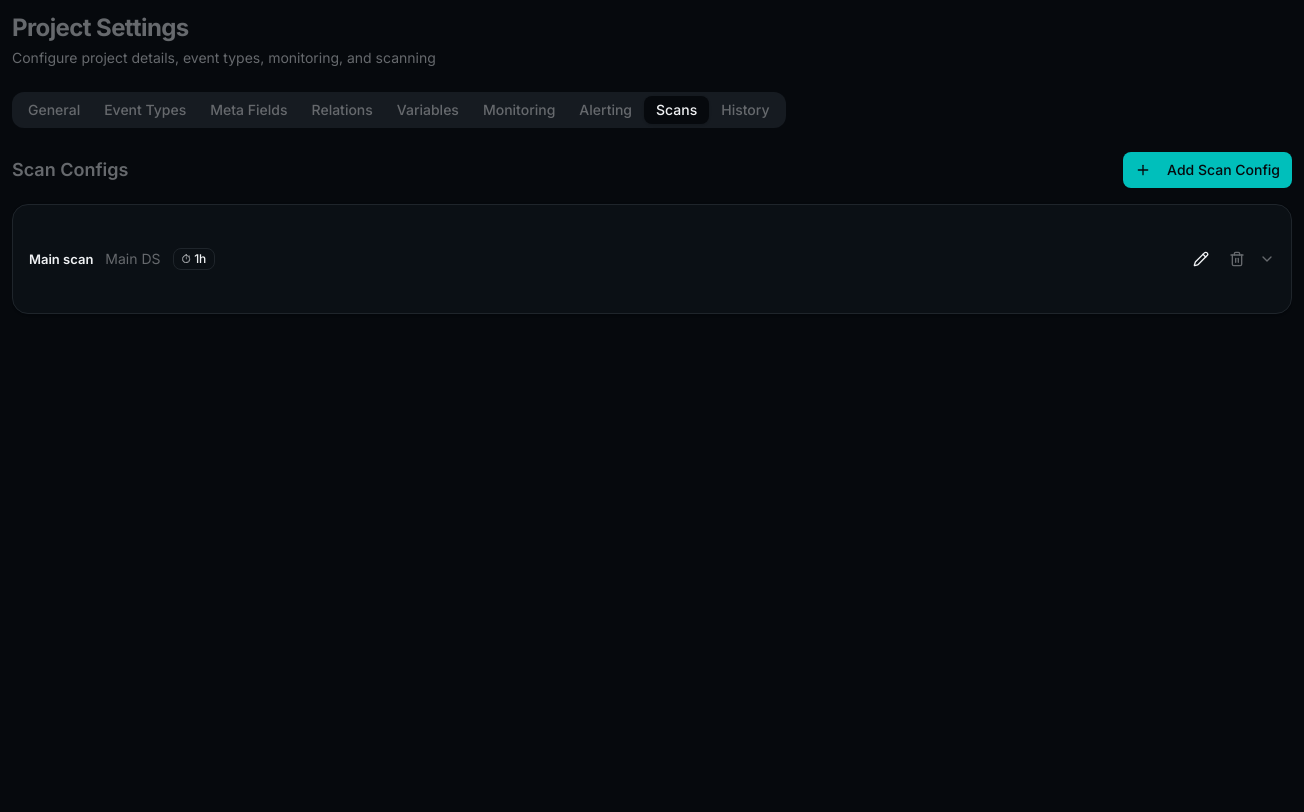
ProjectSettingsPage › shows added signals in scan job results
Click the text "Main scan". click: [61, 259]
box: x1=29 y1=250 x2=93 y2=268
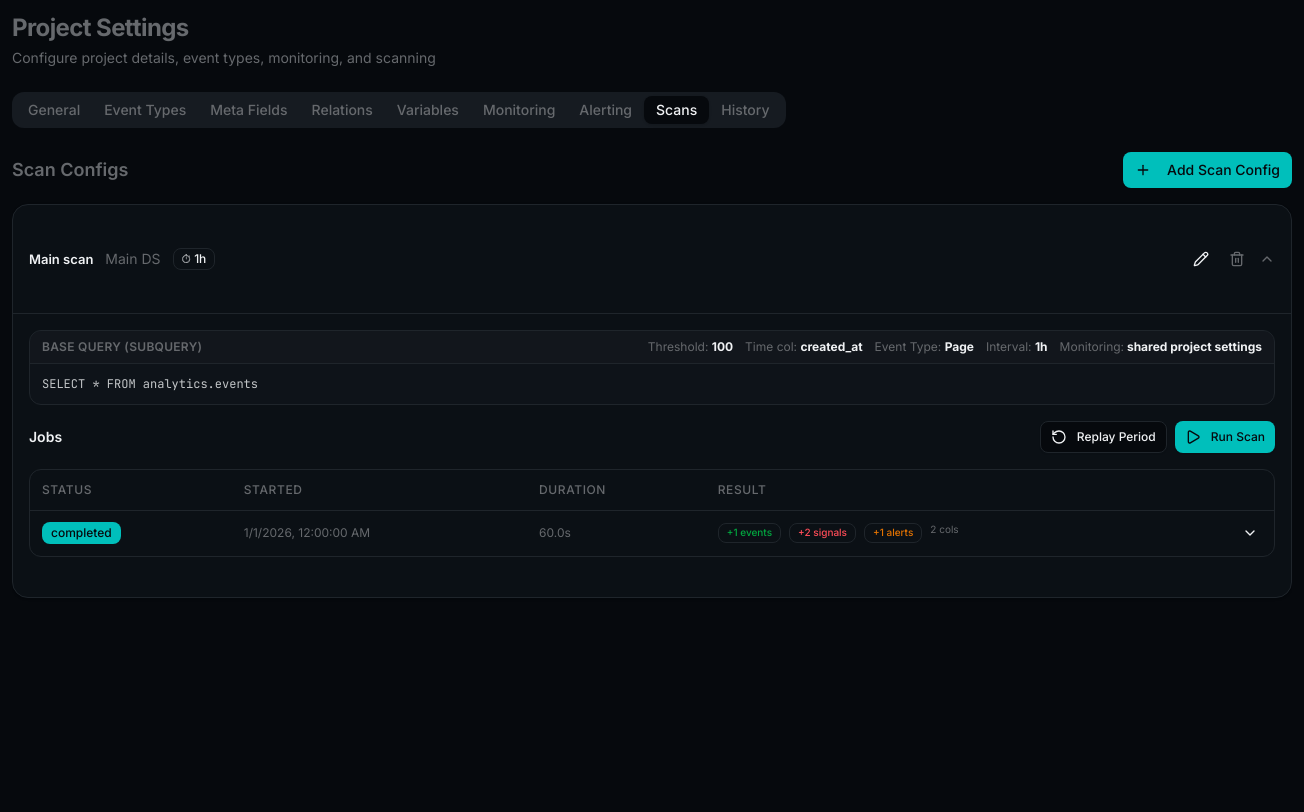
Check: the text "+2 signals" is shown, box x1=789 y1=523 x2=856 y2=543
Check: the text "+1 alerts" is shown, box x1=864 y1=523 x2=922 y2=543
